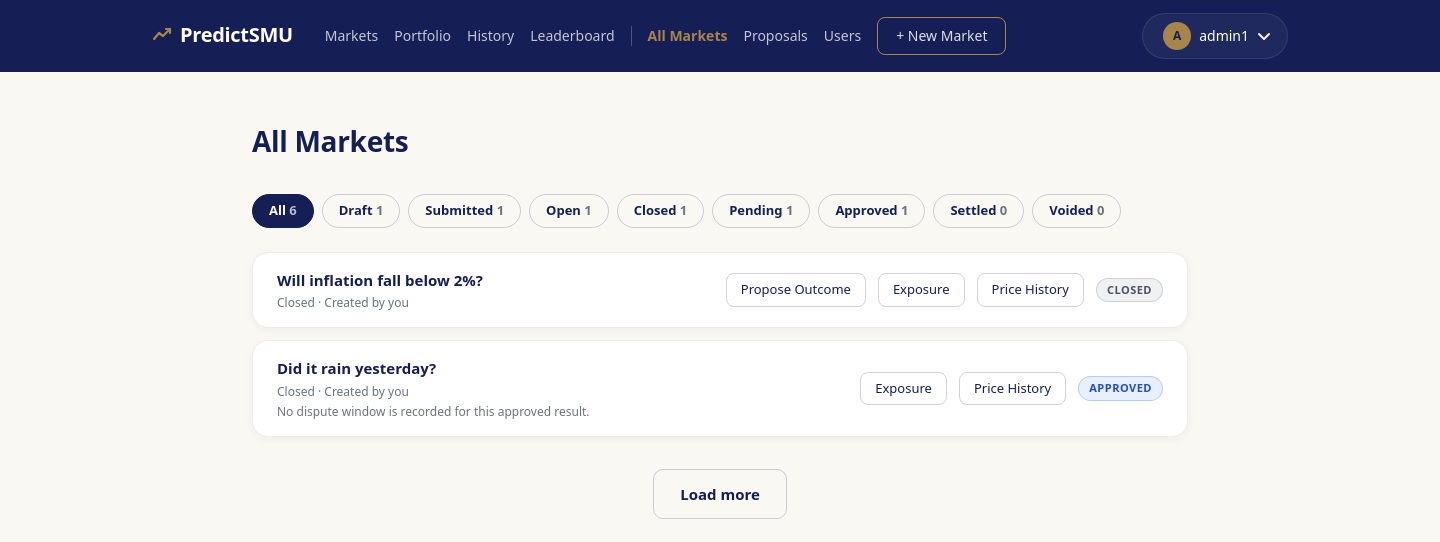
Test: AdminMarketsPage › shows the counts from the latest response
Expected: the text "Will inflation fall below 2%?" is shown, [277,268,483,291]
Expected: the tab "Closed 1" is shown, [617,194,704,228]
Click the button "Load more" at coordinates (720, 494), box [653,468,787,519]
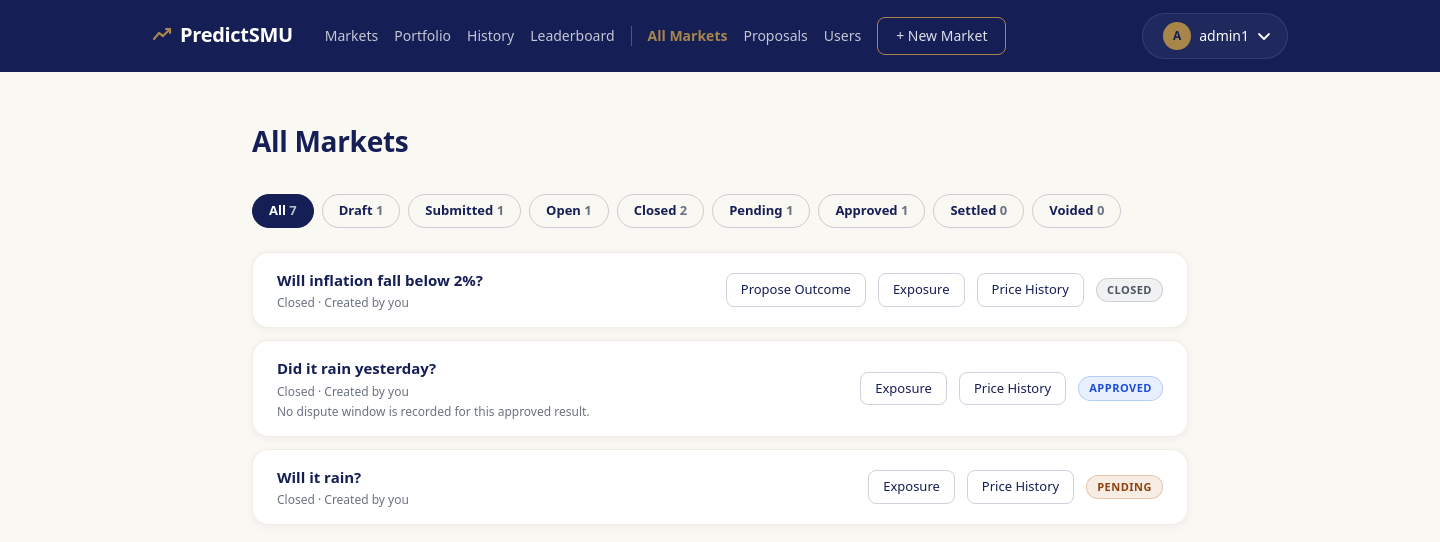
Now the text "Will it rain?" is shown, box [277,466,361,486]
Now the tab "Closed 2" is shown, box [617,194,704,228]
Now the tab "All 7" is shown, box [252,194,314,228]
